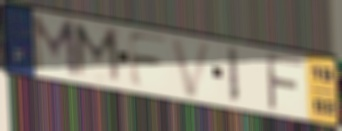F: (125, 29, 171, 90), (264, 50, 307, 114)
I: (225, 45, 241, 107)
M: (71, 20, 125, 87), (28, 13, 81, 81)
V: (168, 35, 216, 100)
